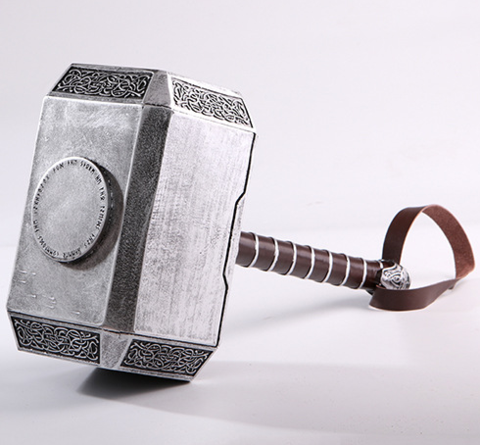THOR Hammer: (9, 50, 456, 390)
